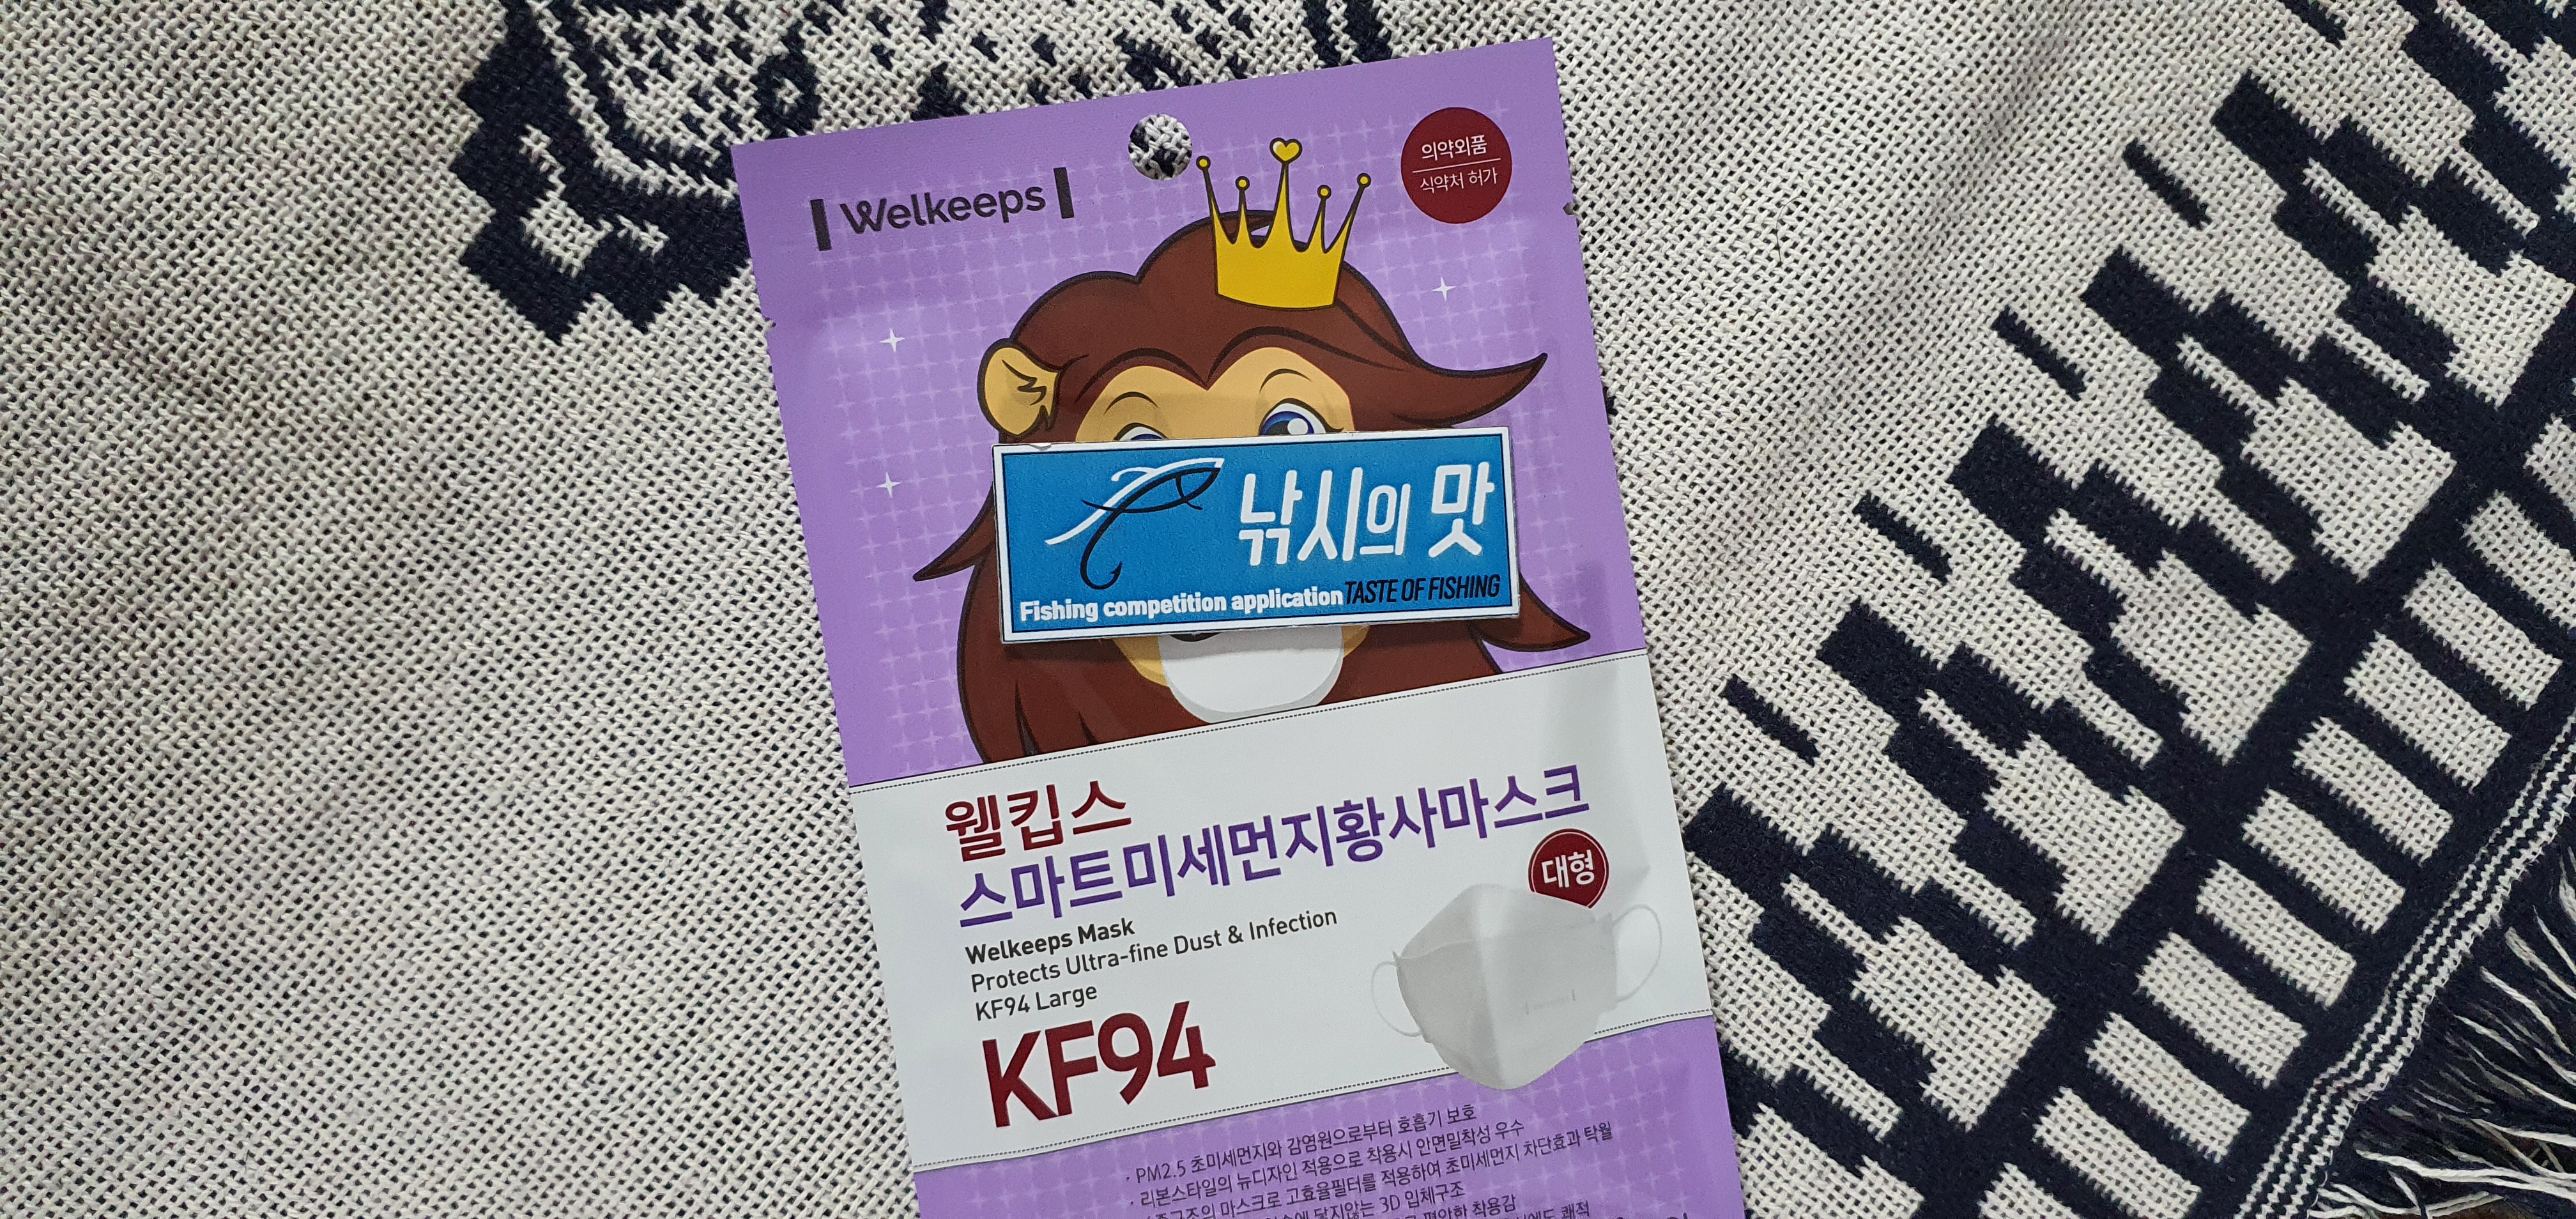tag: (989, 425, 1523, 621)
